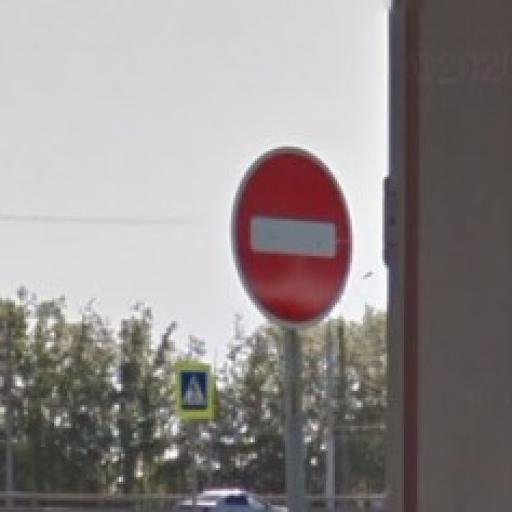traffic_sign: (230, 143, 355, 334), (176, 362, 215, 422)
